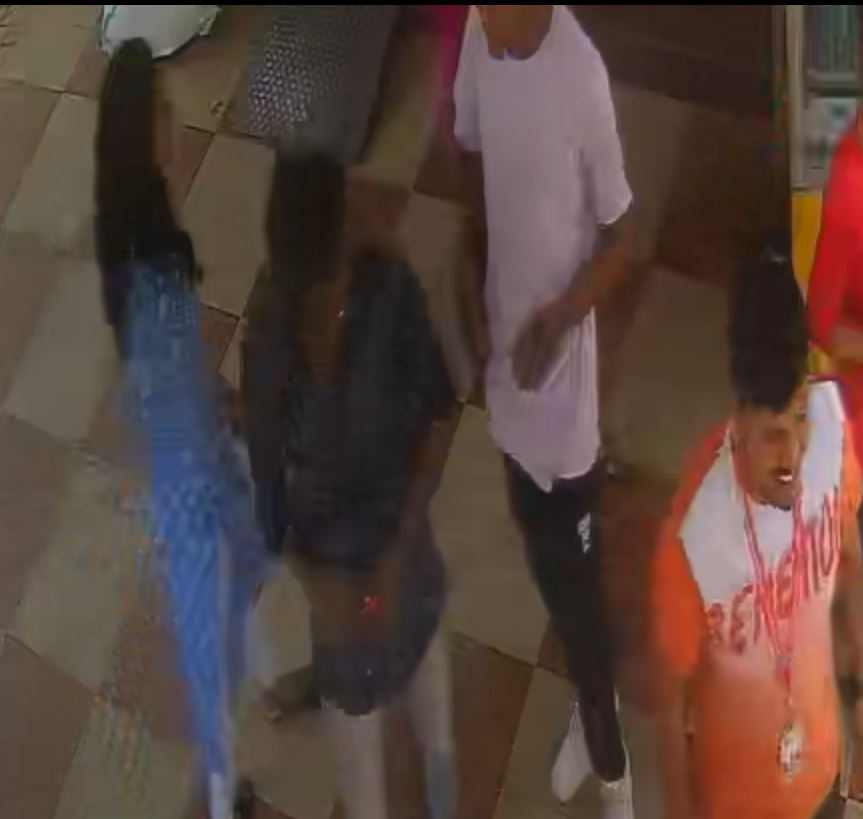intruder: (656, 266, 863, 819)
not intruder: (241, 184, 478, 819)
